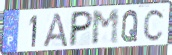1: (29, 14, 38, 48)
A: (42, 12, 70, 48)
C: (142, 8, 166, 43)
M: (91, 8, 120, 47)
P: (67, 10, 95, 49)
Q: (120, 9, 140, 44)
